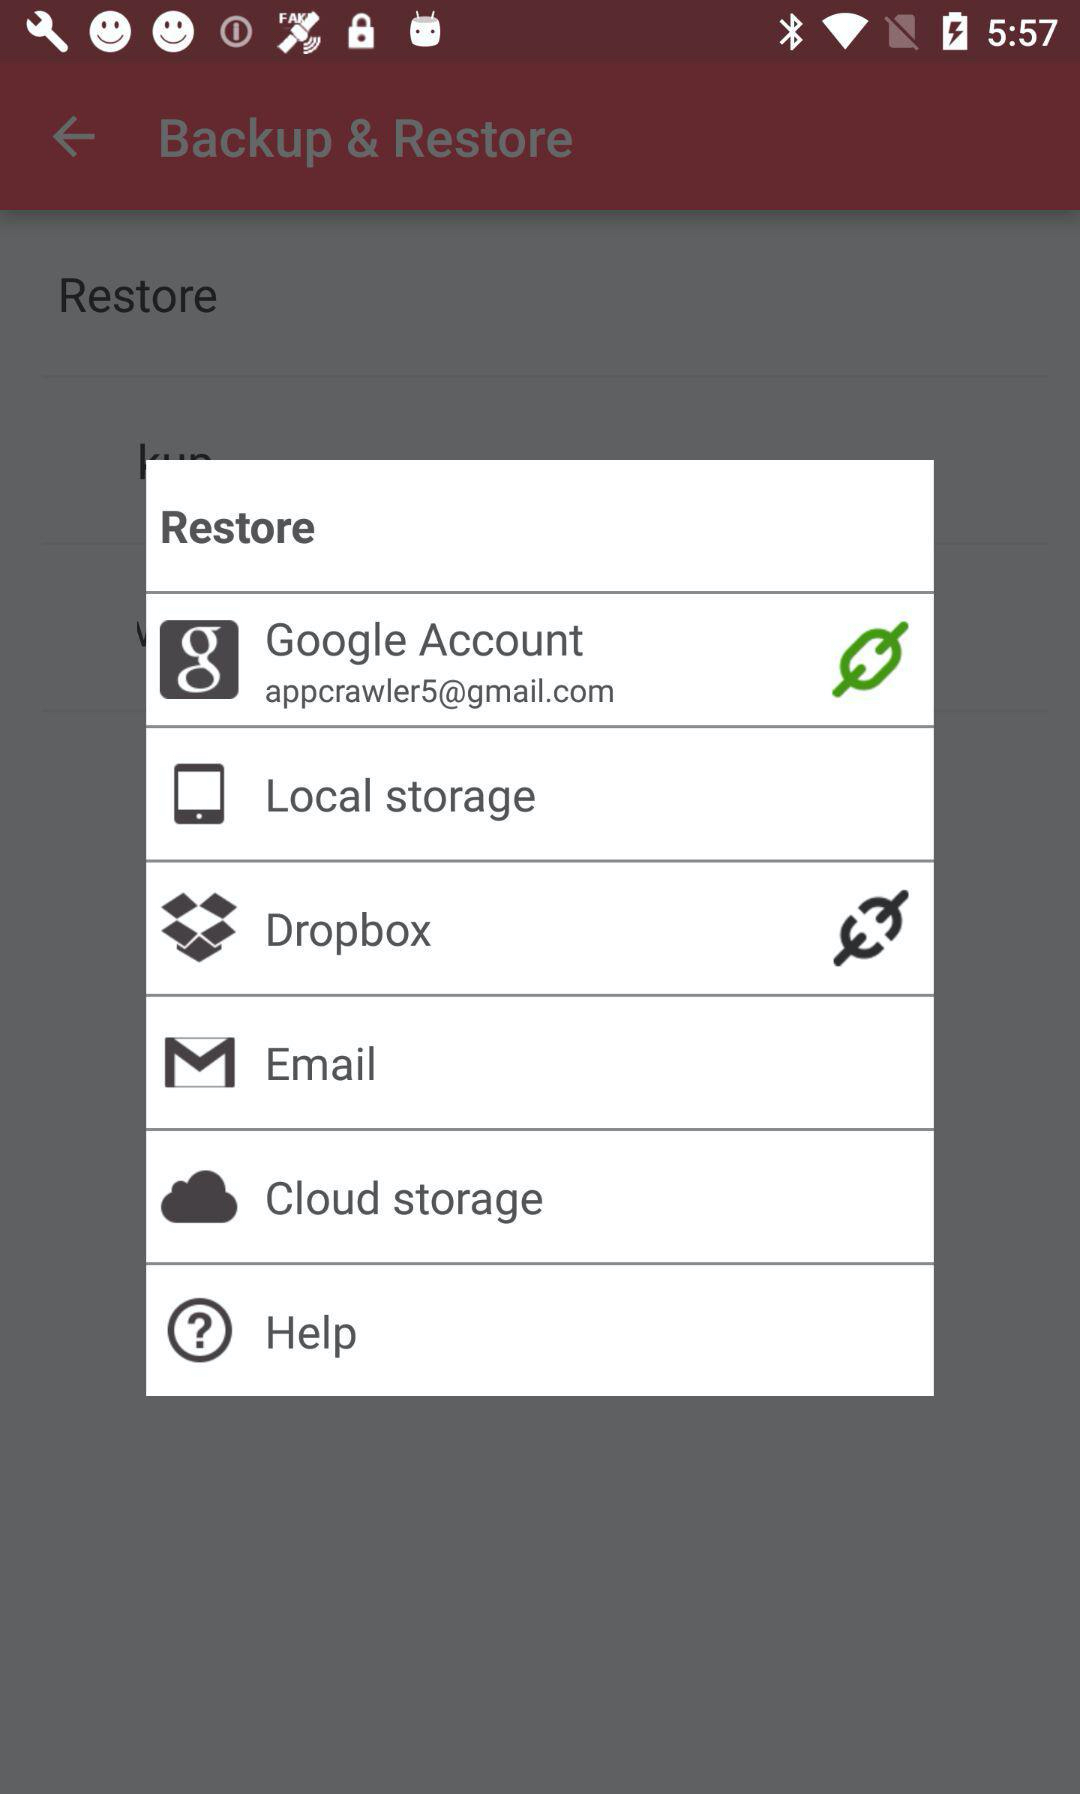Icon: (160, 620, 240, 700), (161, 1170, 240, 1224), (168, 1298, 233, 1362), (165, 1037, 236, 1088), (51, 115, 96, 159)
Image: (833, 889, 910, 967), (831, 621, 910, 698), (161, 892, 238, 964), (174, 762, 225, 825)
Modal: (146, 460, 937, 1397)
Text: (160, 119, 574, 170), (266, 621, 583, 666), (268, 1180, 543, 1225), (268, 778, 536, 821), (266, 678, 614, 710), (268, 912, 432, 956), (61, 278, 217, 315), (161, 513, 315, 545), (268, 1315, 357, 1360), (268, 1046, 375, 1082)
UpperTaskBar: (1, 1, 1080, 64)
